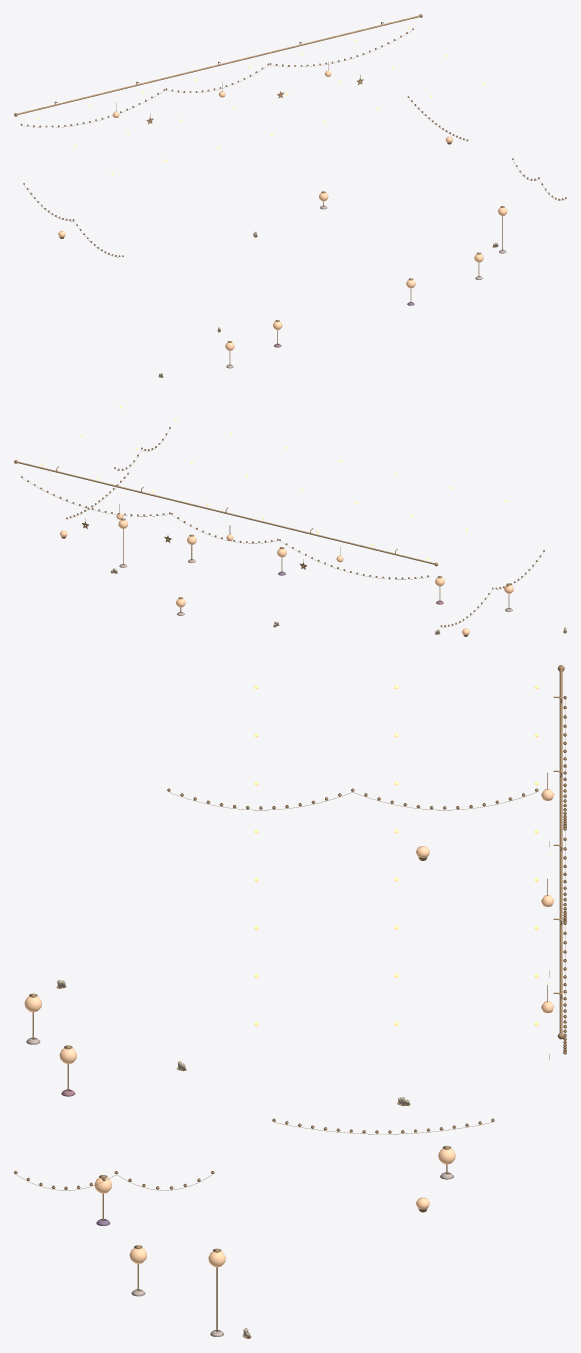
Rendered from room-dressing.glb.
3 views of the same model, one above another, from view 1: azimuth 30°, elevation 25°; view 2: azimuth 150°, elevation 25°; view 3: azimuth 270°, elevation 25° (orthographic). The views are drawn at different scales.
Parts seen in each view (by area): view 1: Batched_Fixture_Brushed_Champagne_Brass, Batched_Fixture_Frosted_Ivory_Glass; view 2: Batched_Fixture_Brushed_Champagne_Brass, Batched_Fixture_Frosted_Ivory_Glass; view 3: Batched_Fixture_Brushed_Champagne_Brass, Batched_Fixture_Frosted_Ivory_Glass.
Part boxes in pixels (<box>): Batched_Fixture_Brushed_Champagne_Brass: <box>14,14,566,377</box>; Batched_Fixture_Frosted_Ivory_Glass: <box>58,70,507,350</box>; Batched_Fixture_Brushed_Champagne_Brass: <box>14,427,566,636</box>; Batched_Fixture_Frosted_Ivory_Glass: <box>60,513,513,634</box>; Batched_Fixture_Brushed_Champagne_Brass: <box>14,665,566,1338</box>; Batched_Fixture_Frosted_Ivory_Glass: <box>24,789,553,1267</box>.
Size of the model in its own units: 20.03 by 7.99 by 12.63.
